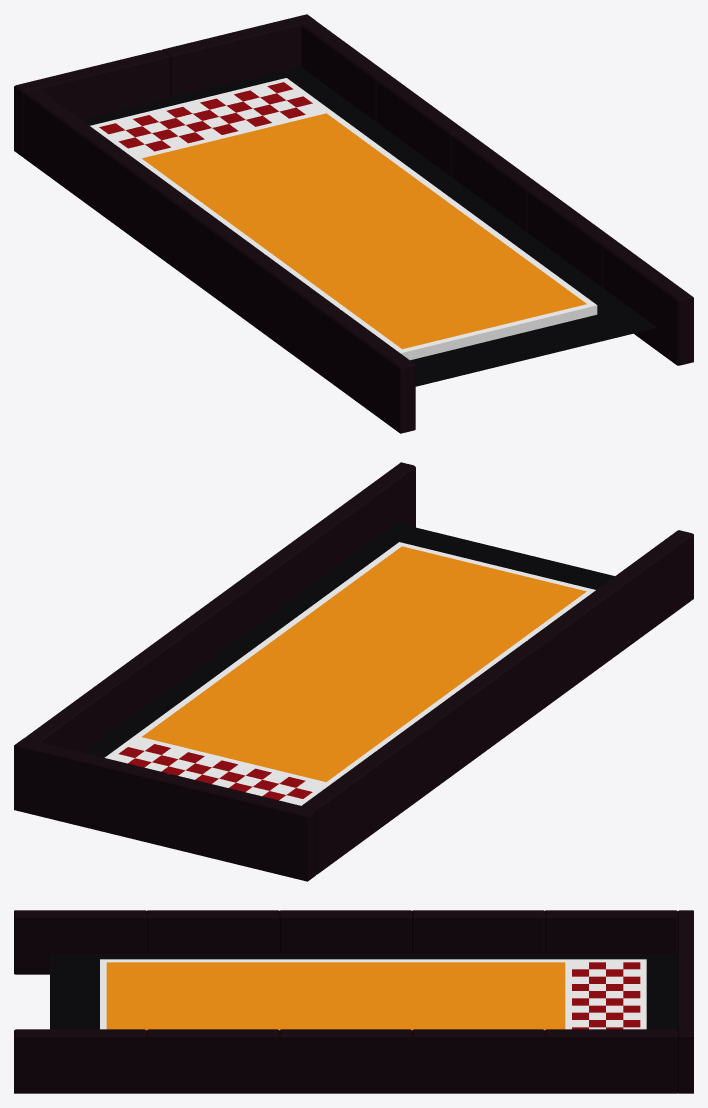
Rendered from Field.FBX.
3 views of the same model, one above another, from view 1: azimuth 30°, elevation 25°; view 2: azimuth 150°, elevation 25°; view 3: azimuth 270°, elevation 25° (orthographic). The views are drawn at different scales.
Parts seen in each view (by area): view 1: Field, Fence; view 2: Fence, Field; view 3: Fence, Field.
Part boxes in pixels (<box>): Field: <box>82,66,656,386</box>; Fence: <box>14,14,693,433</box>; Fence: <box>14,462,693,881</box>; Field: <box>83,523,614,805</box>; Fence: <box>14,910,693,1093</box>; Field: <box>50,953,677,1030</box>.
Size of the model in its own units: 218 by 46.82 by 497.
